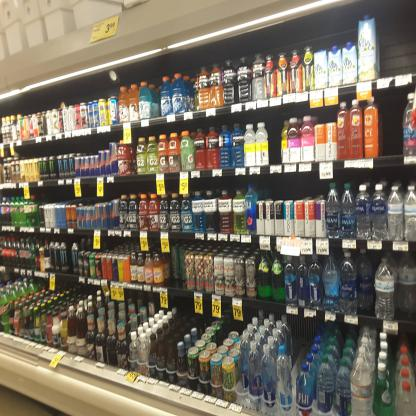Void: (382, 14, 414, 72), (379, 101, 403, 153), (270, 123, 280, 163)
